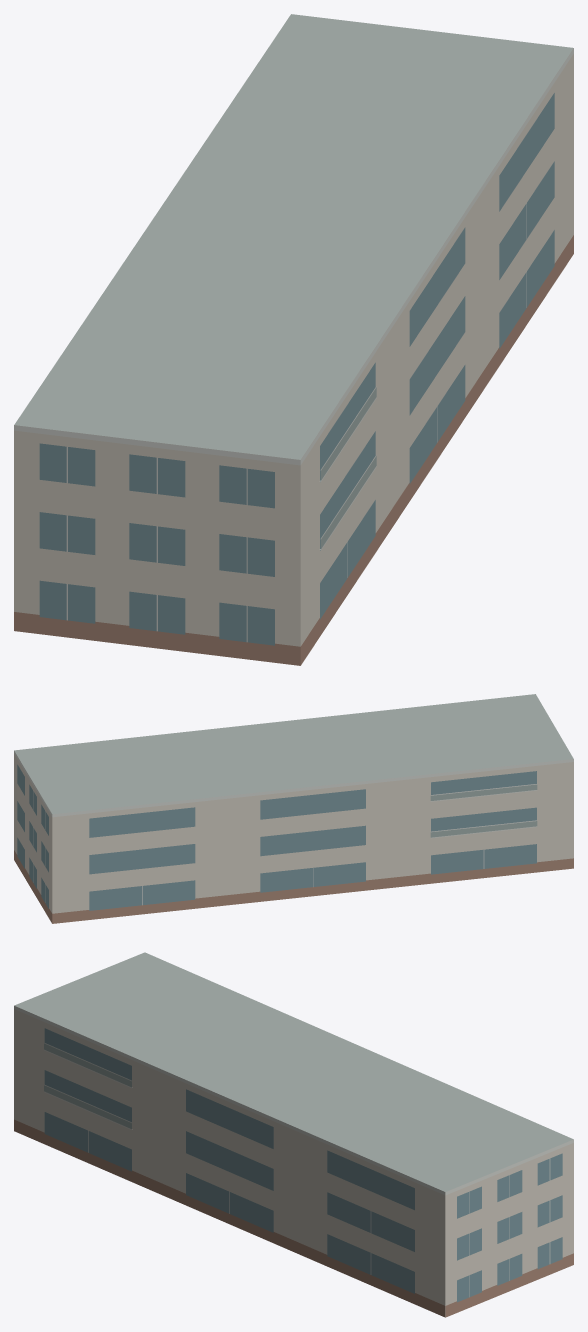
The model's file is survey-upis-32684475.glb.
3 renders of one model, top to bottom at view 1: azimuth 30°, elevation 25°; view 2: azimuth 150°, elevation 25°; view 3: azimuth 270°, elevation 25°, orthographic. The views are drawn at different scales.
Parts seen in each view (by area): view 1: survey-upis-32684475.tmp; view 2: survey-upis-32684475.tmp; view 3: survey-upis-32684475.tmp.
Boxes of the visible parts, x1,y1,x2,y2 form: survey-upis-32684475.tmp: (14, 14, 573, 665); survey-upis-32684475.tmp: (14, 694, 573, 923); survey-upis-32684475.tmp: (14, 952, 573, 1317).
Bounding box in the file's own units: 37.5 × 9.15 × 37.
